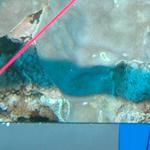alive: (8, 9, 148, 147)
